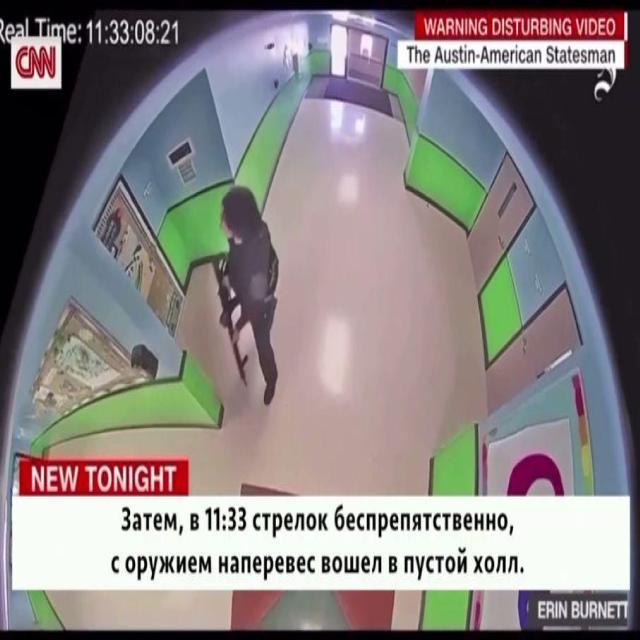pistol: (210, 256, 252, 388)
